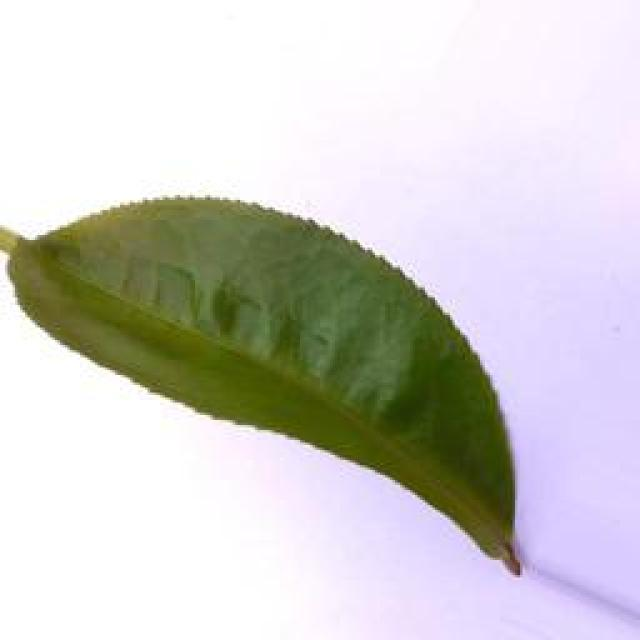Healthy: (0, 197, 522, 564)
